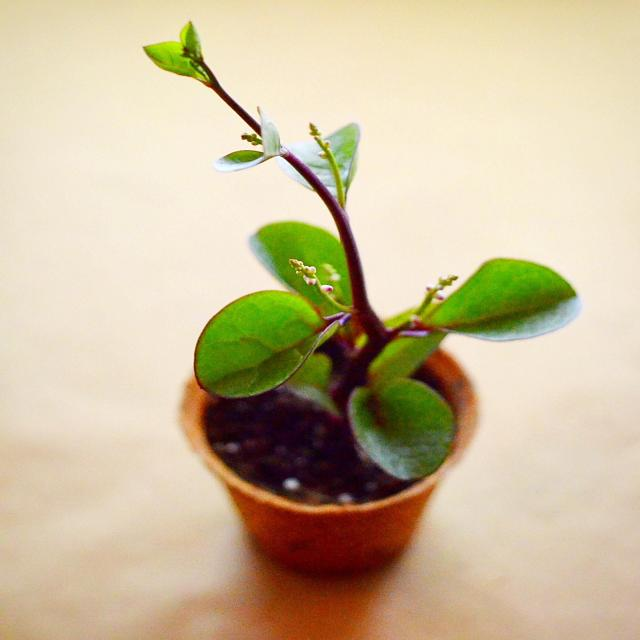Medicinal-Basale: (90, 16, 594, 483)
